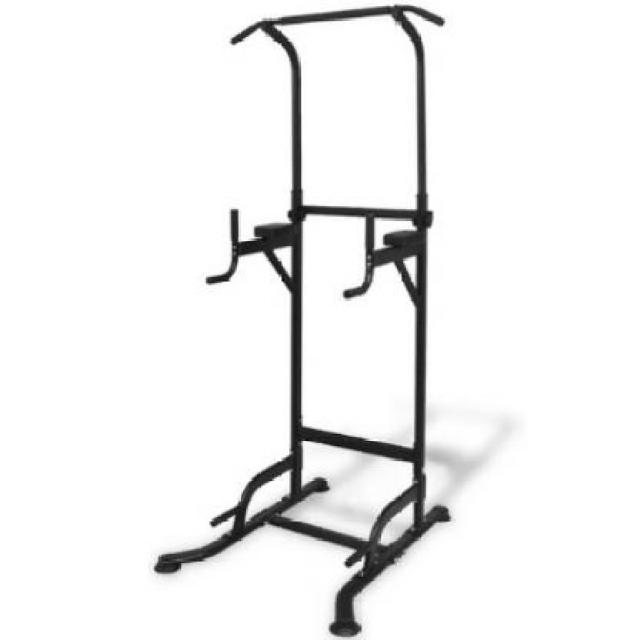chinning dipping: (158, 3, 457, 635)
